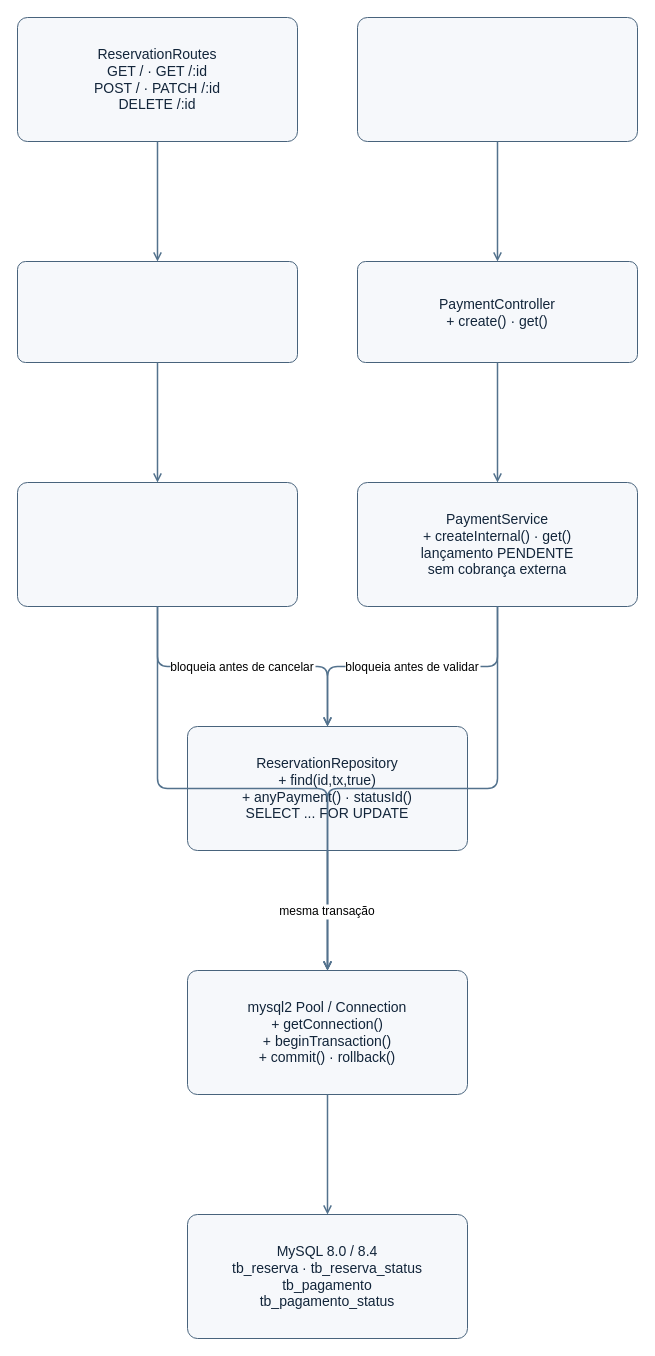
Image size: 655x1356. Some labels were removed from this diagram. Each missing label, with the box of its shape:
PaymentRoutes GET / · GET /:id POST / (ADMIN): (356, 16, 638, 142)
ReservationController + create() + cancel(): (16, 260, 298, 362)
ReservationService + create() + cancelPendingDraft() rascunho PENDENTE: (16, 482, 298, 606)
